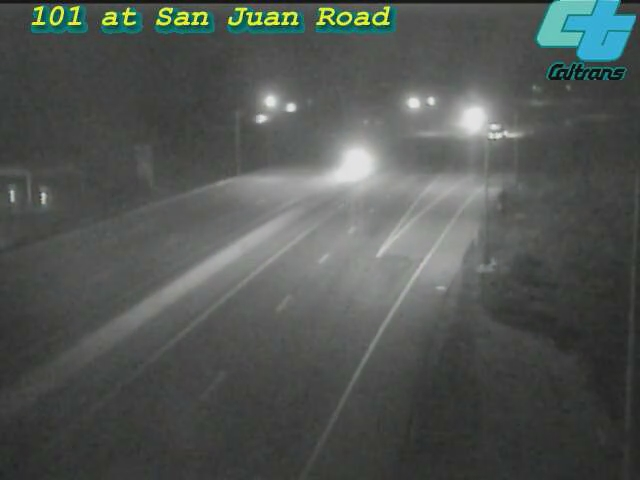vehicle: (311, 123, 391, 203), (446, 94, 496, 144), (475, 106, 525, 156)
